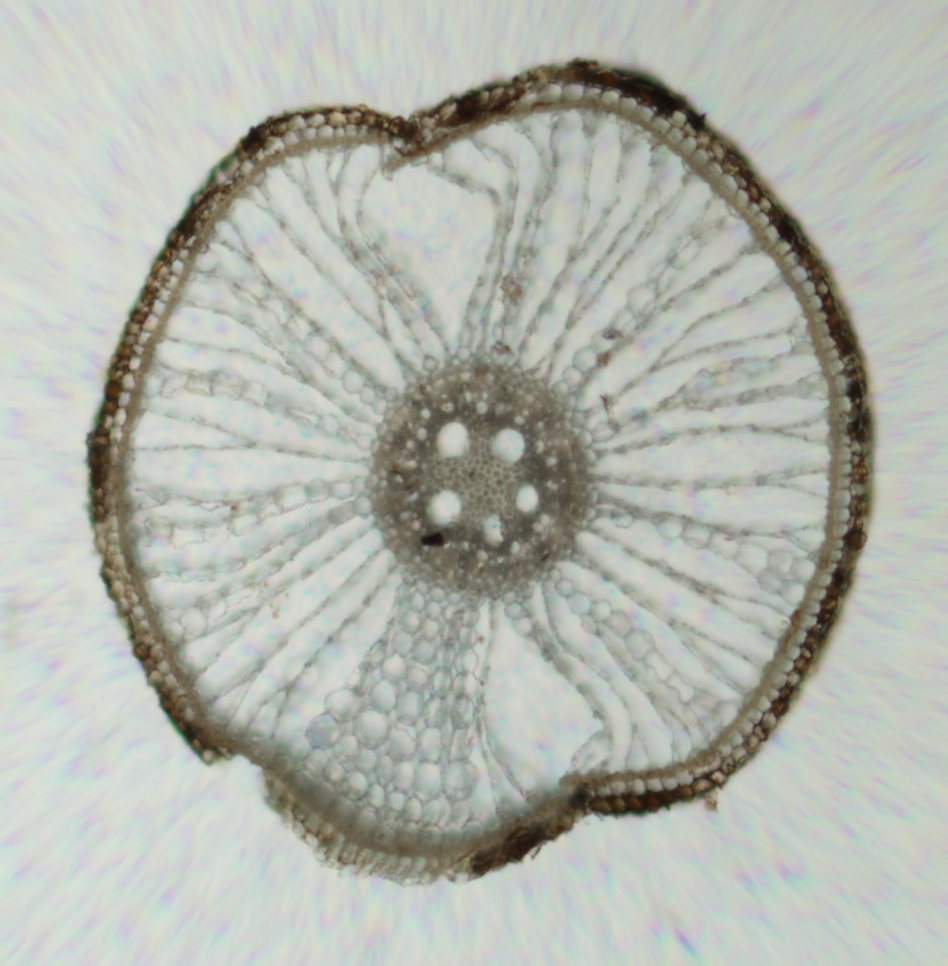lm: (490, 428, 526, 464), (427, 490, 461, 528), (436, 422, 471, 458), (484, 514, 505, 548), (515, 484, 539, 513)
